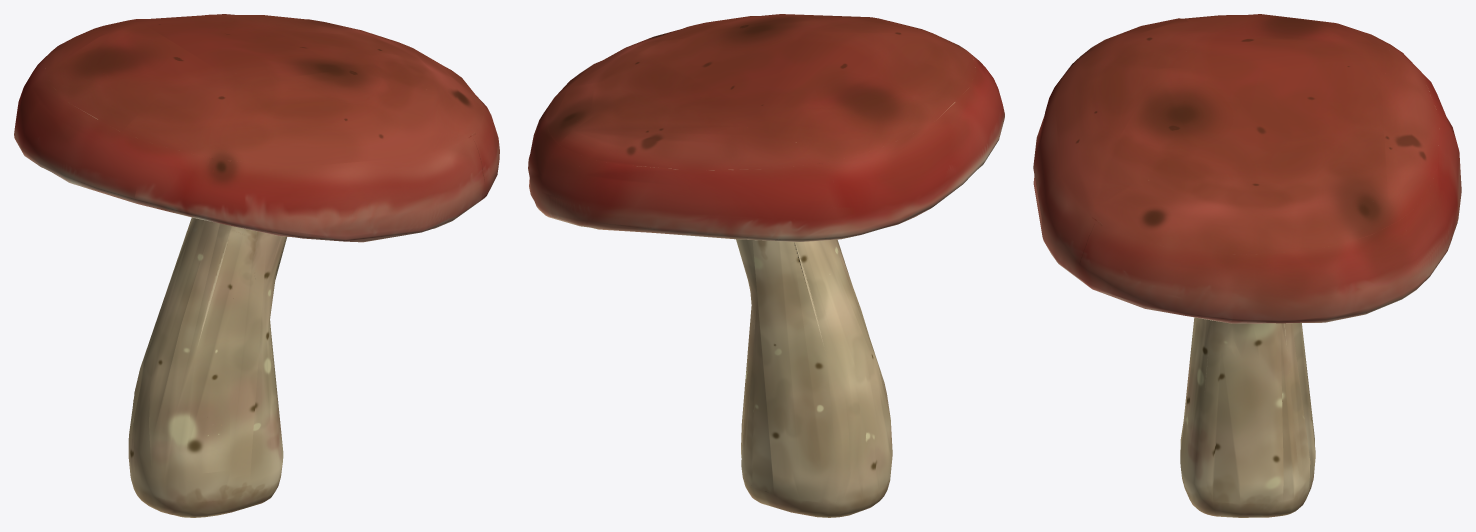
The model's file is Mushroom_LOD1.fbx.
The picture shows the model from 3 angles, left to right: view 1: azimuth 30°, elevation 25°; view 2: azimuth 150°, elevation 25°; view 3: azimuth 270°, elevation 25°; orthographic projection.
Parts seen in each view (by area): view 1: Mushroom_LOD1; view 2: Mushroom_LOD1; view 3: Mushroom_LOD1.
Boxes of the visible parts, x1=… form: Mushroom_LOD1: x1=14, y1=14, x2=499, y2=517; Mushroom_LOD1: x1=528, y1=14, x2=1004, y2=517; Mushroom_LOD1: x1=1033, y1=14, x2=1461, y2=517.
Size of the model in its own units: 12.2 by 12.4 by 10.81.
